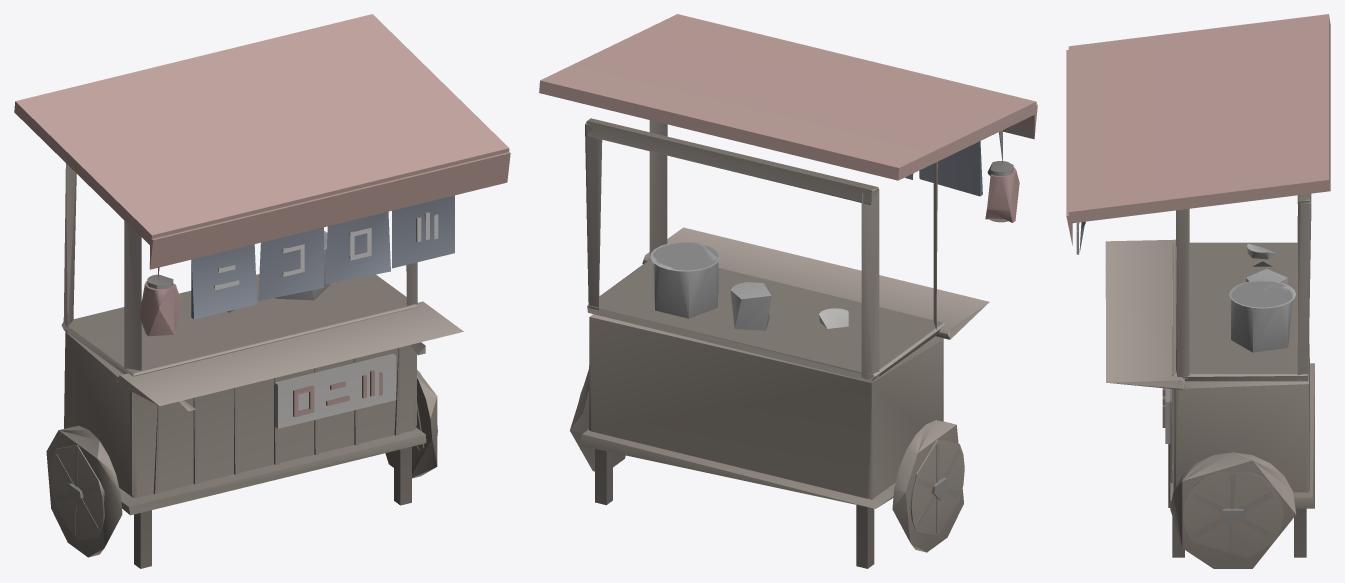
File: ramen.lod2.glb
3 renders of one model, left to right at view 1: azimuth 30°, elevation 25°; view 2: azimuth 150°, elevation 25°; view 3: azimuth 270°, elevation 25°, orthographic. The views are drawn at different scales.
Size of the model in its own units: 1.87 by 2.09 by 1.26.
